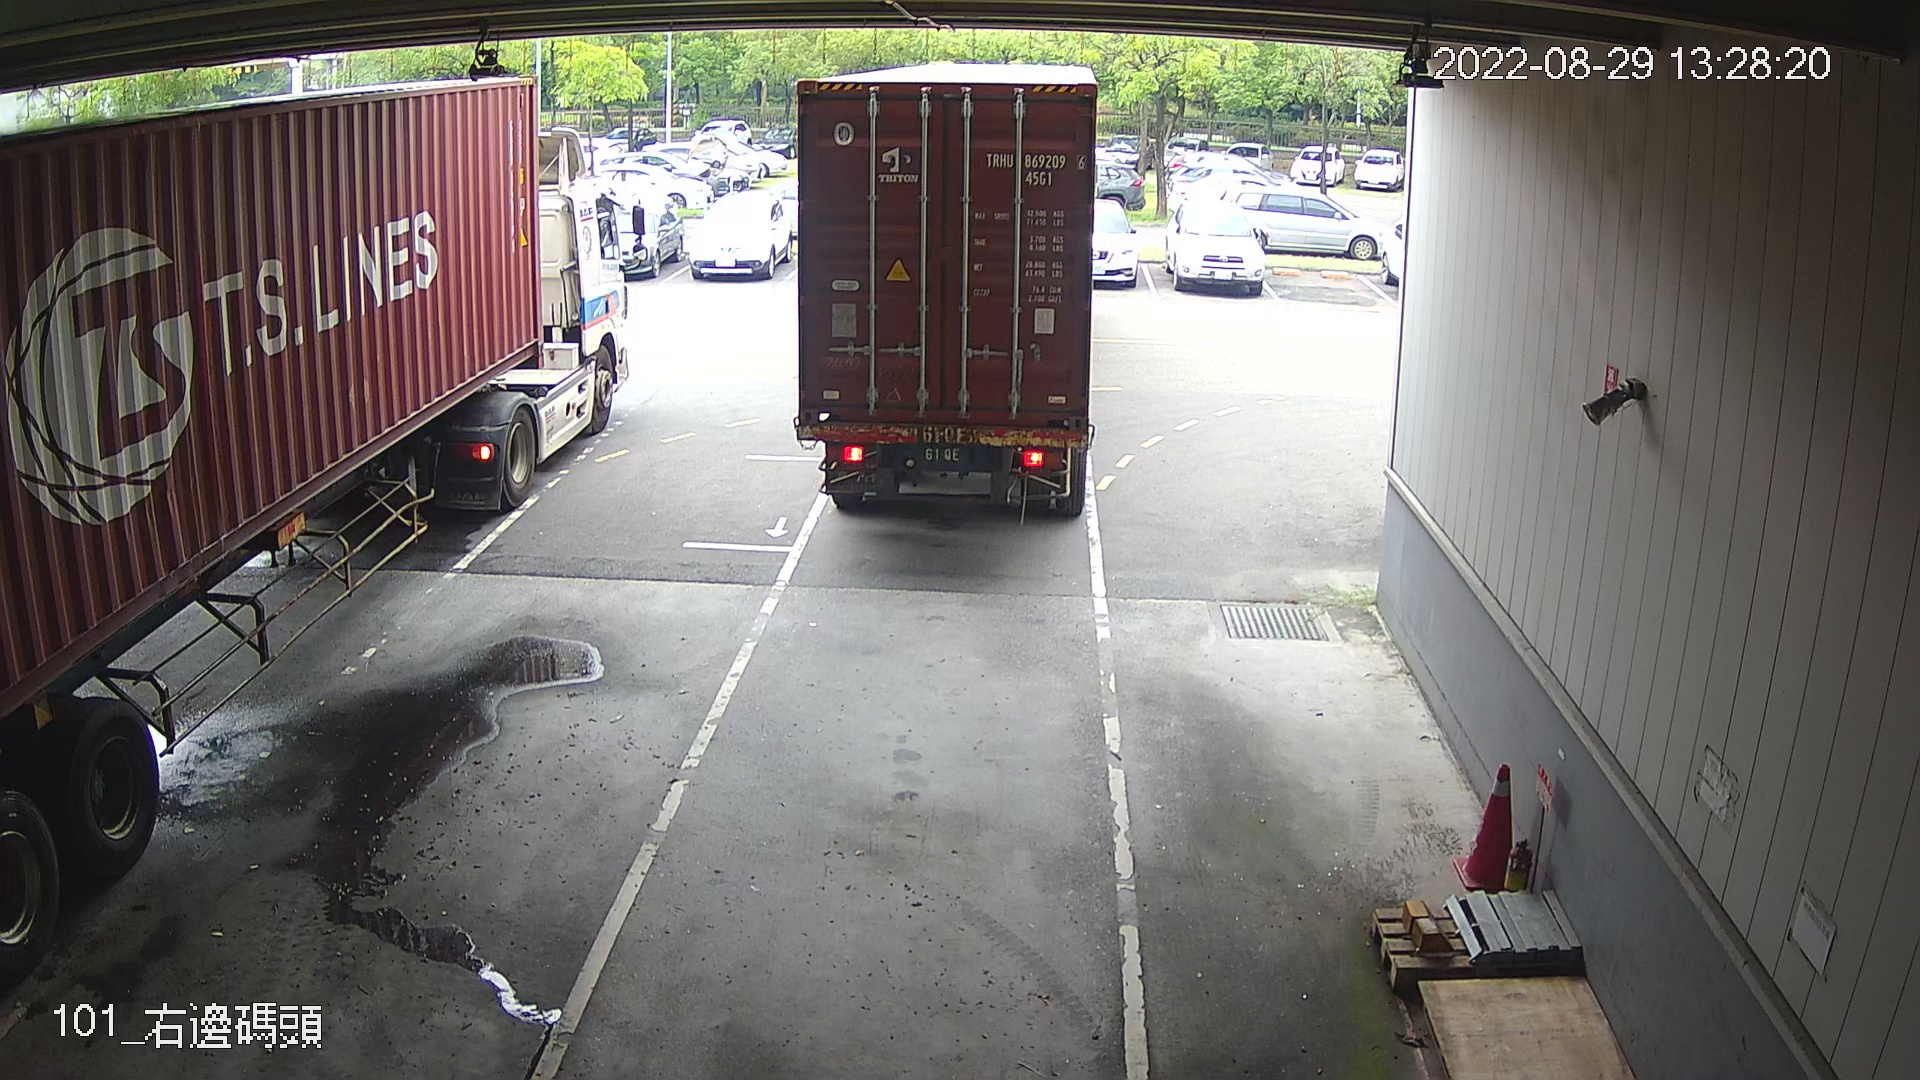container: (978, 145, 1089, 193)
